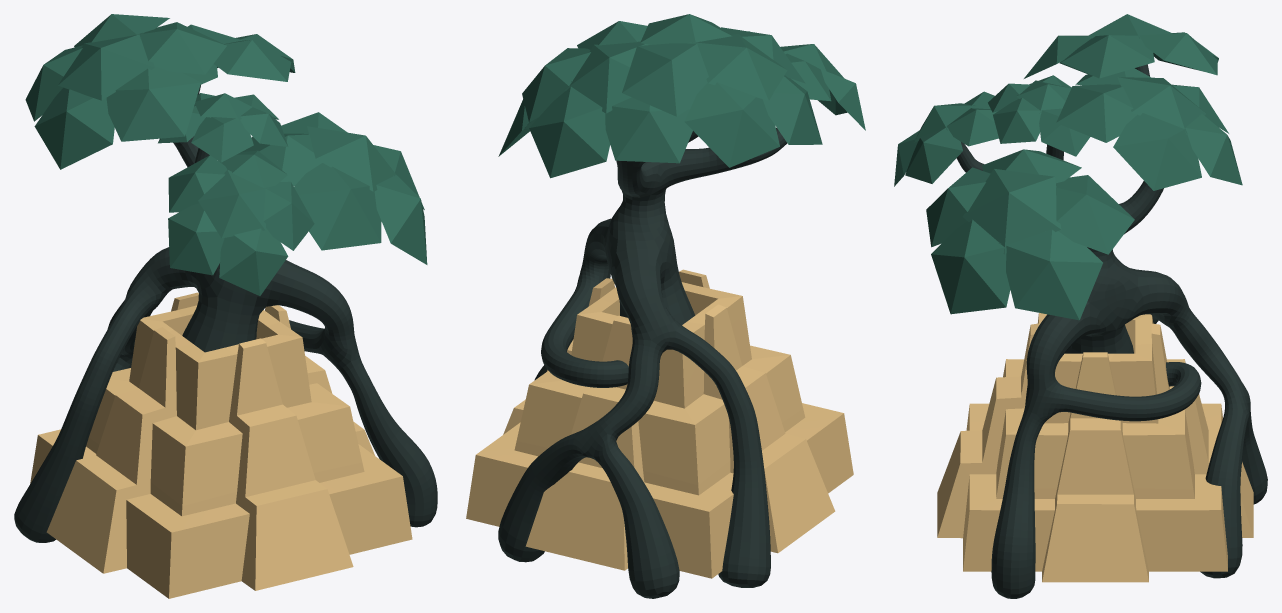
The model's file is HomeTree.fbx.
The picture shows the model from 3 angles, left to right: view 1: azimuth 30°, elevation 25°; view 2: azimuth 150°, elevation 25°; view 3: azimuth 270°, elevation 25°; orthographic projection. The views are drawn at different scales.
Parts seen in each view (by area): view 1: Home, Tree, Sphere.006, Sphere.008, Sphere.012, Sphere.010, Canopy2, Canopy3, Canopy5, Sphere.004, Canopy4; view 2: Home, Tree, Sphere.006, Sphere.004, Canopy2, Canopy, Sphere.008, Canopy3, Sphere.012; view 3: Home, Tree, Sphere.012, Sphere.004, Sphere.006, Canopy5, Sphere.008, Sphere.010, Canopy, Canopy4, Canopy2, Canopy3.
Part boxes in pixels (x1,y1,x2,y2): Home: [30, 292, 412, 598]; Tree: [14, 85, 437, 542]; Sphere.006: [25, 14, 226, 169]; Sphere.008: [168, 150, 314, 295]; Sphere.012: [241, 112, 427, 264]; Sphere.010: [158, 93, 288, 162]; Canopy2: [58, 32, 154, 100]; Canopy3: [198, 170, 268, 238]; Canopy5: [307, 126, 396, 191]; Sphere.004: [182, 34, 295, 84]; Canopy4: [195, 93, 252, 120]; Home: [466, 269, 853, 578]; Tree: [498, 127, 787, 598]; Sphere.006: [622, 14, 822, 167]; Sphere.004: [522, 21, 692, 178]; Canopy2: [689, 34, 787, 100]; Canopy: [564, 41, 649, 113]; Sphere.008: [785, 53, 865, 130]; Canopy3: [780, 44, 844, 78]; Sphere.012: [498, 99, 538, 156]; Home: [937, 313, 1253, 582]; Tree: [956, 64, 1267, 598]; Sphere.012: [926, 149, 1134, 320]; Sphere.004: [1056, 68, 1242, 190]; Sphere.006: [1024, 32, 1218, 78]; Canopy5: [962, 169, 1061, 254]; Sphere.008: [894, 91, 998, 186]; Sphere.010: [988, 75, 1090, 156]; Canopy: [1117, 77, 1205, 134]; Canopy4: [1016, 80, 1071, 113]; Canopy2: [1084, 14, 1172, 38]; Canopy3: [913, 103, 976, 142].
Bounding box in the file's own units: 272 × 411 × 282.
